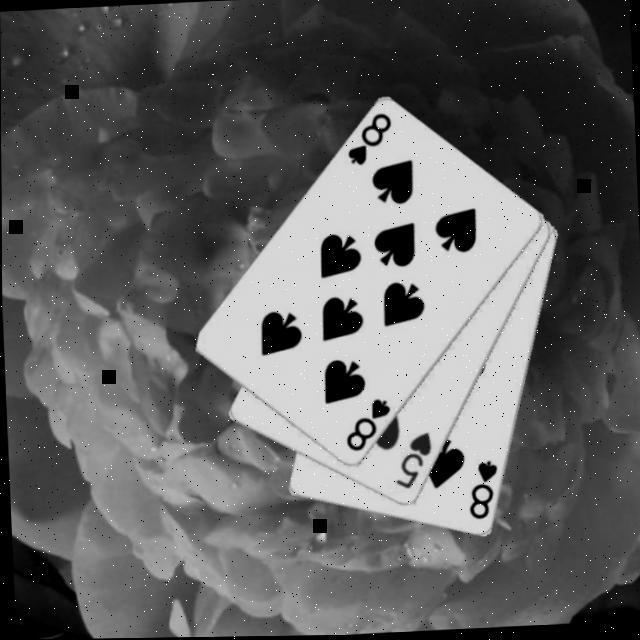5H: (391, 432, 437, 496)
8S: (342, 397, 396, 458), (344, 111, 398, 172), (465, 460, 503, 526)
